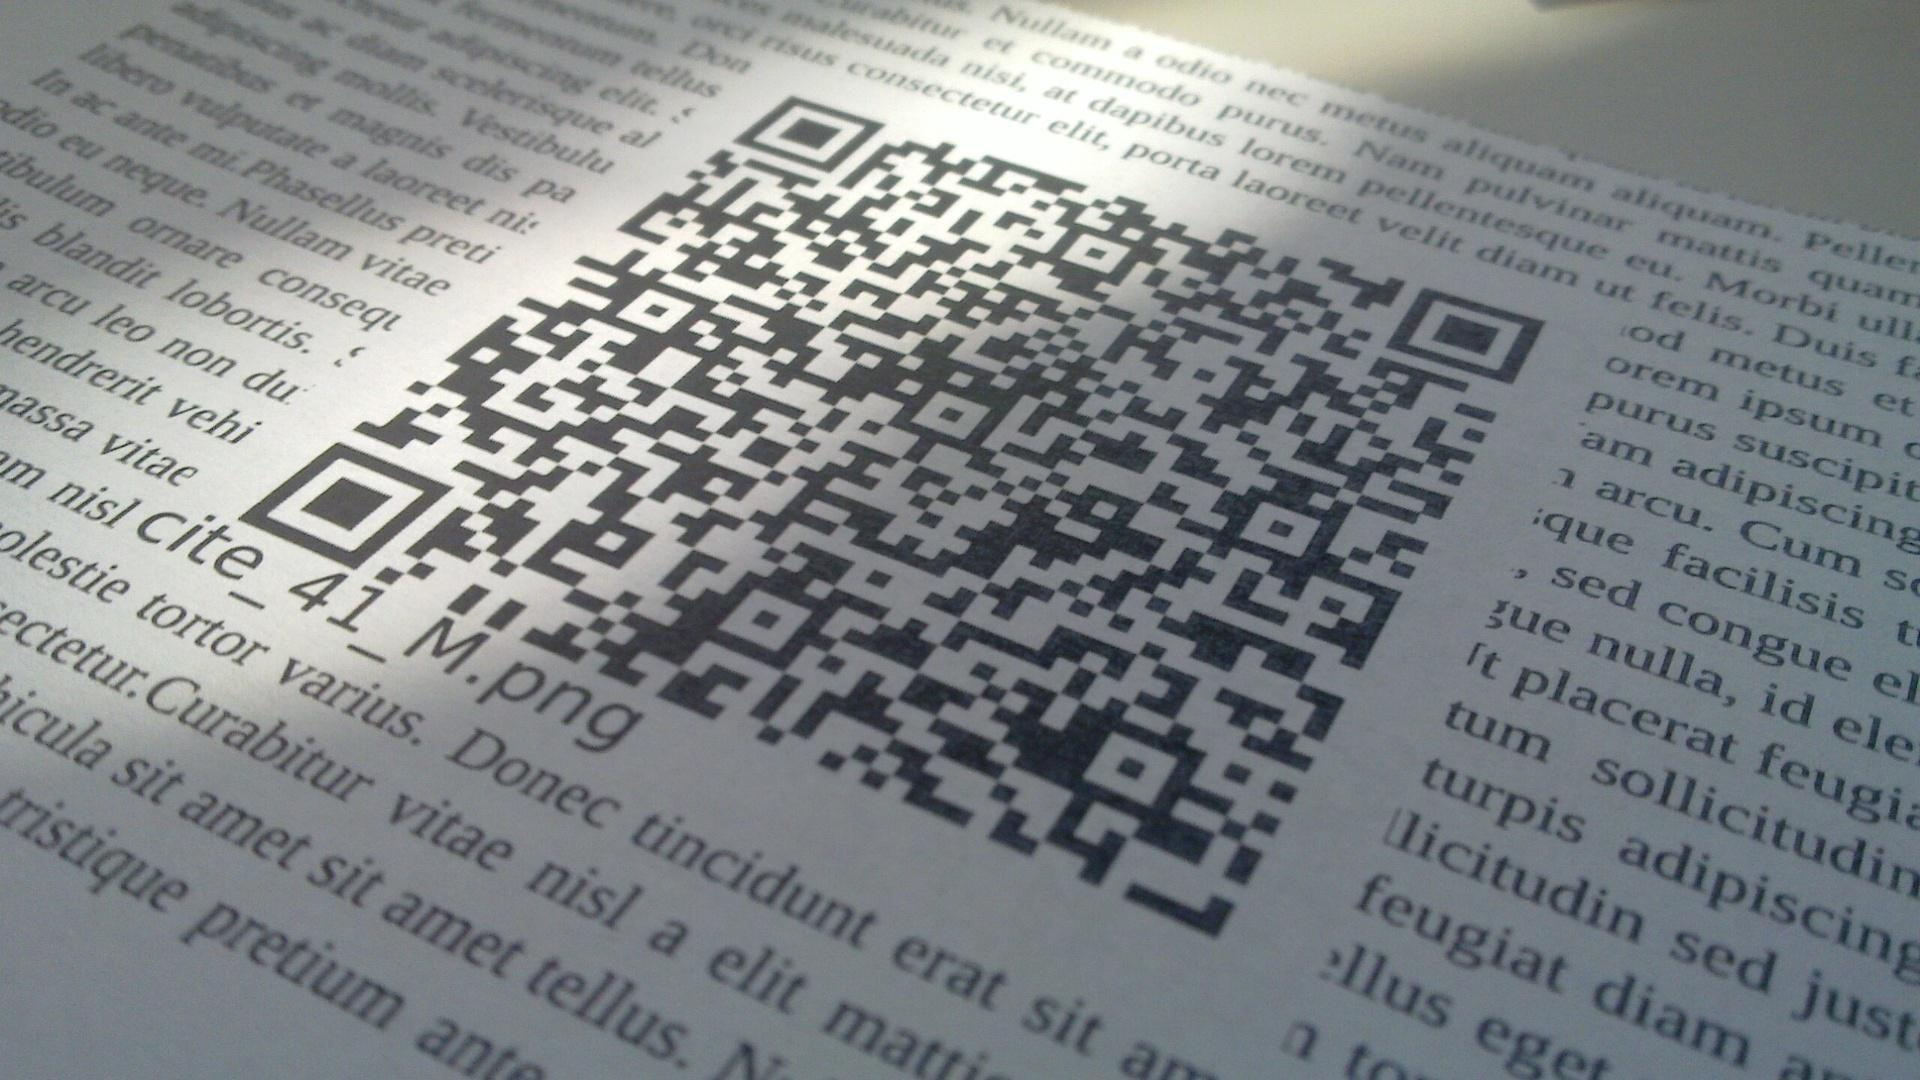Finder pattern: (245, 451, 448, 563), (1393, 282, 1544, 385), (738, 98, 878, 169)
